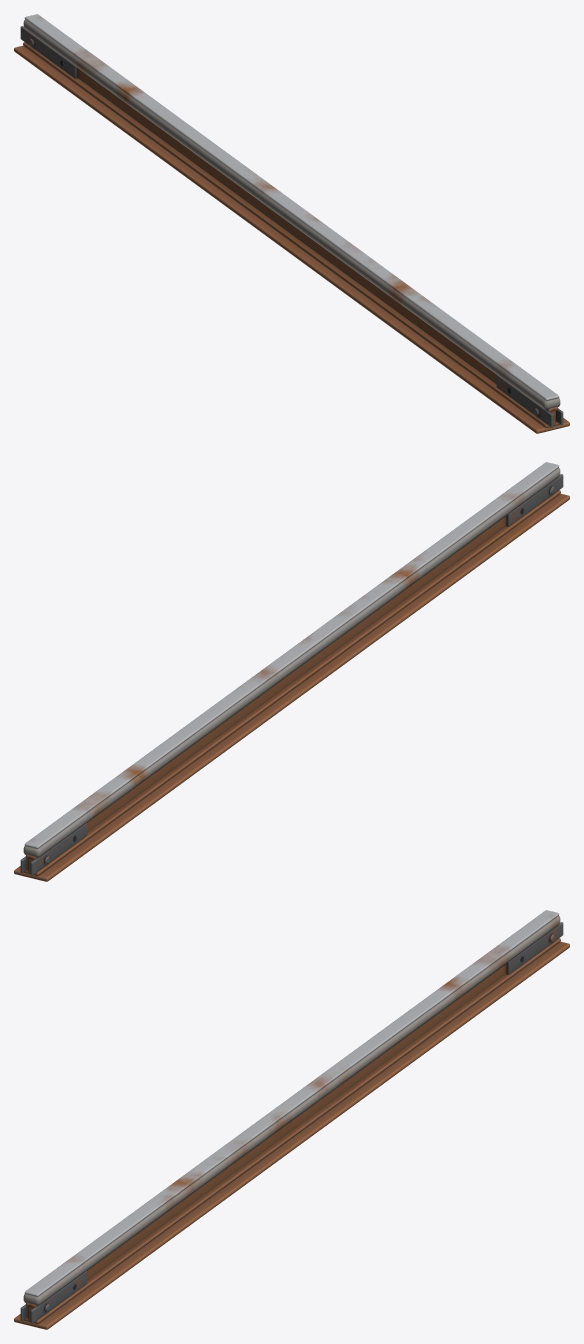
Rendered from rail.glb.
The picture shows the model from 3 angles, top to bottom: view 1: azimuth 30°, elevation 25°; view 2: azimuth 150°, elevation 25°; view 3: azimuth 330°, elevation 25°; orthographic projection.
Visible parts, largest first — view 1: Rail; view 2: Rail; view 3: Rail.
Boxes of the visible parts, <box> form: Rail: <box>14,14,569,433</box>; Rail: <box>14,462,569,881</box>; Rail: <box>14,910,569,1329</box>.
Size of the model in its own units: 0.15 by 0.139 by 4.06.
5 materials, 5 textured.
